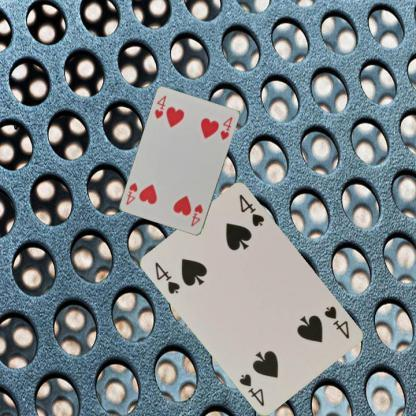4h: (152, 93, 168, 120), (188, 202, 204, 228)
4s: (152, 258, 182, 296), (322, 304, 351, 340)
